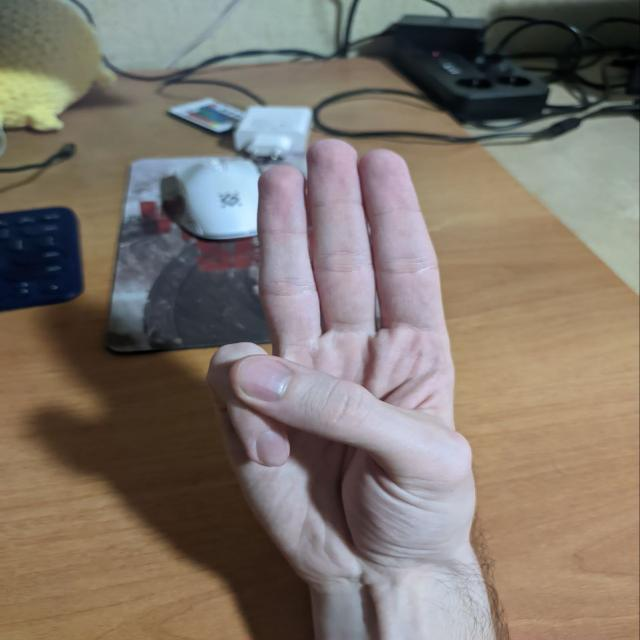sh: (175, 166, 546, 546)
